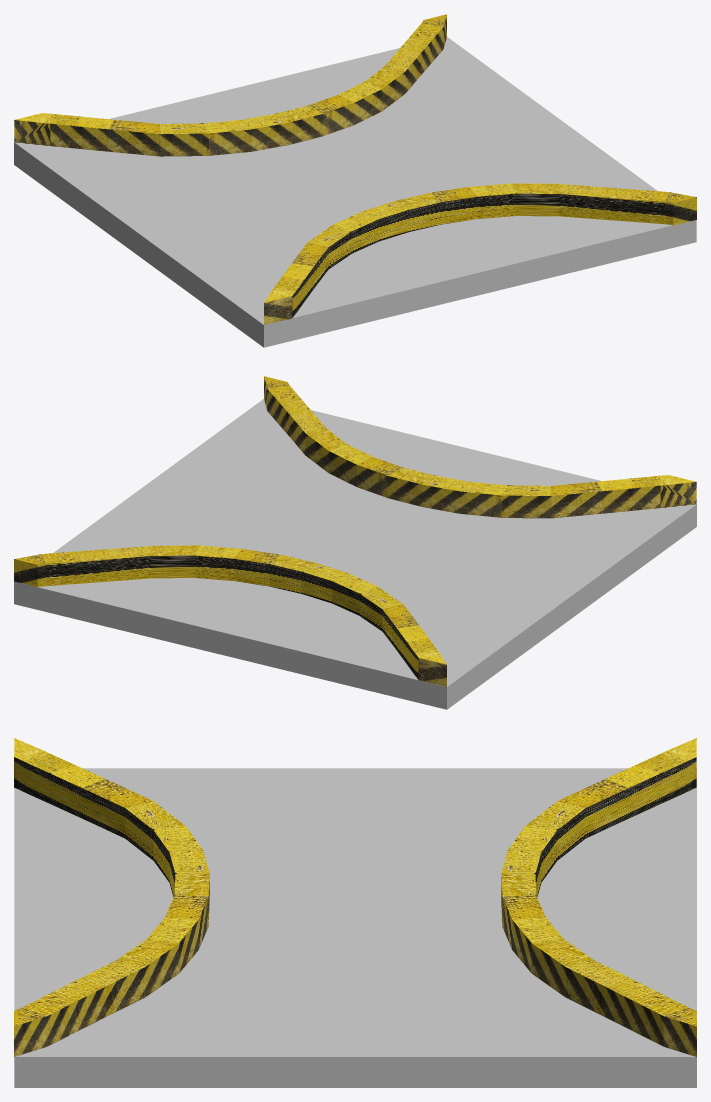
File: straight.fbx
3 renders of one model, top to bottom at view 1: azimuth 30°, elevation 25°; view 2: azimuth 150°, elevation 25°; view 3: azimuth 270°, elevation 25°, orthographic. The views are drawn at different scales.
Parts seen in each view (by area): view 1: Cube, Cube.002, Cube.003; view 2: Cube, Cube.003, Cube.002; view 3: Cube, Cube.002, Cube.003.
Boxes of the visible parts, x1,y1,x2,y2 form: Cube: (14, 37, 696, 347); Cube.002: (264, 183, 696, 324); Cube.003: (14, 14, 446, 156); Cube: (14, 399, 696, 709); Cube.003: (14, 545, 446, 686); Cube.002: (264, 376, 696, 518); Cube: (14, 768, 696, 1087); Cube.002: (14, 738, 209, 1056); Cube.003: (501, 738, 696, 1057).
Bounding box in the file's own units: 4001 × 397 × 4001.
